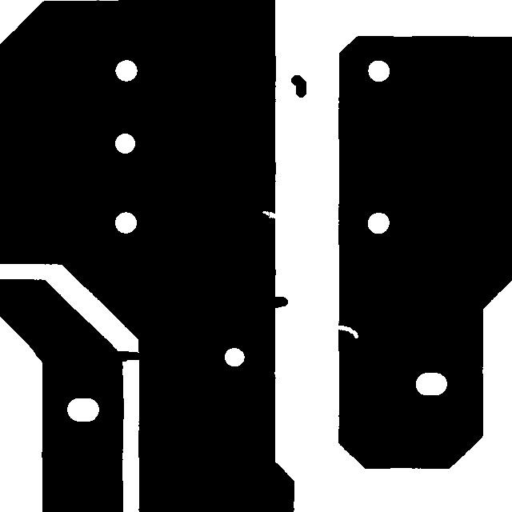copper: (283, 67, 314, 105)
mousebite: (330, 318, 366, 346), (254, 203, 284, 226)
pin-hole: (107, 126, 142, 161)
short: (106, 343, 150, 369)
spur: (261, 289, 295, 316)
